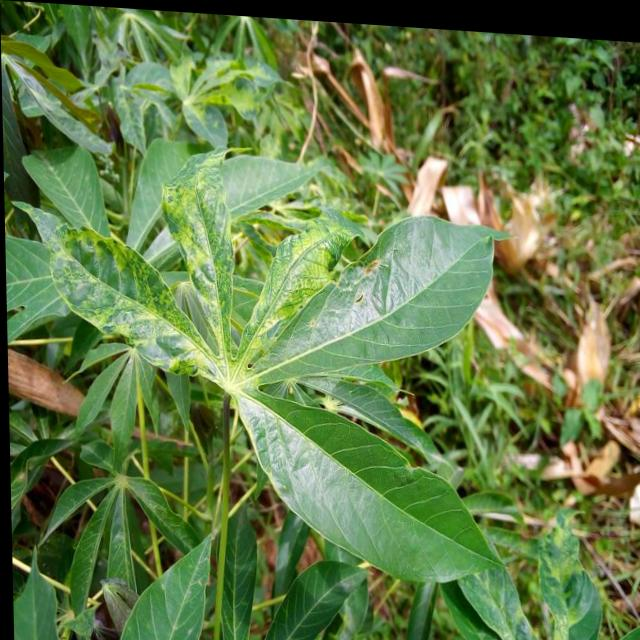Mosaico: (17, 174, 391, 453), (133, 39, 265, 131)
